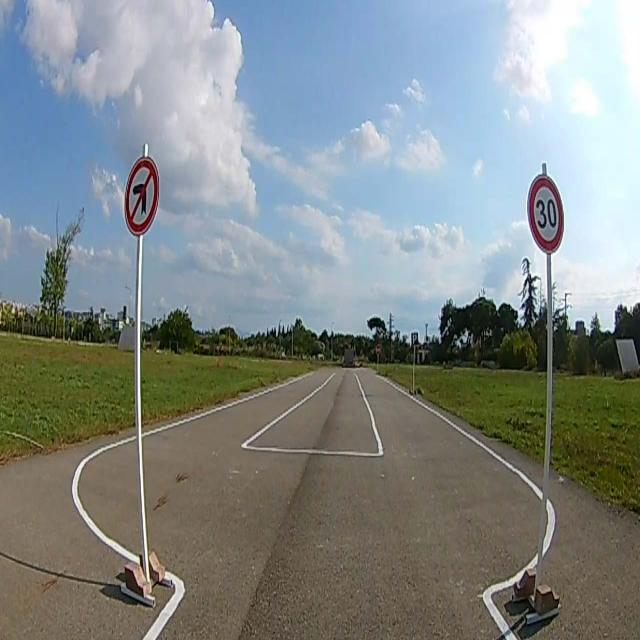30: (527, 175, 565, 253)
soladonulmez: (126, 157, 160, 235)
